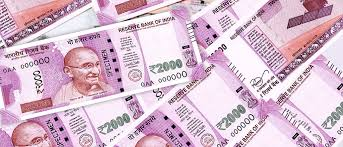twoThousand: (4, 41, 204, 100)
